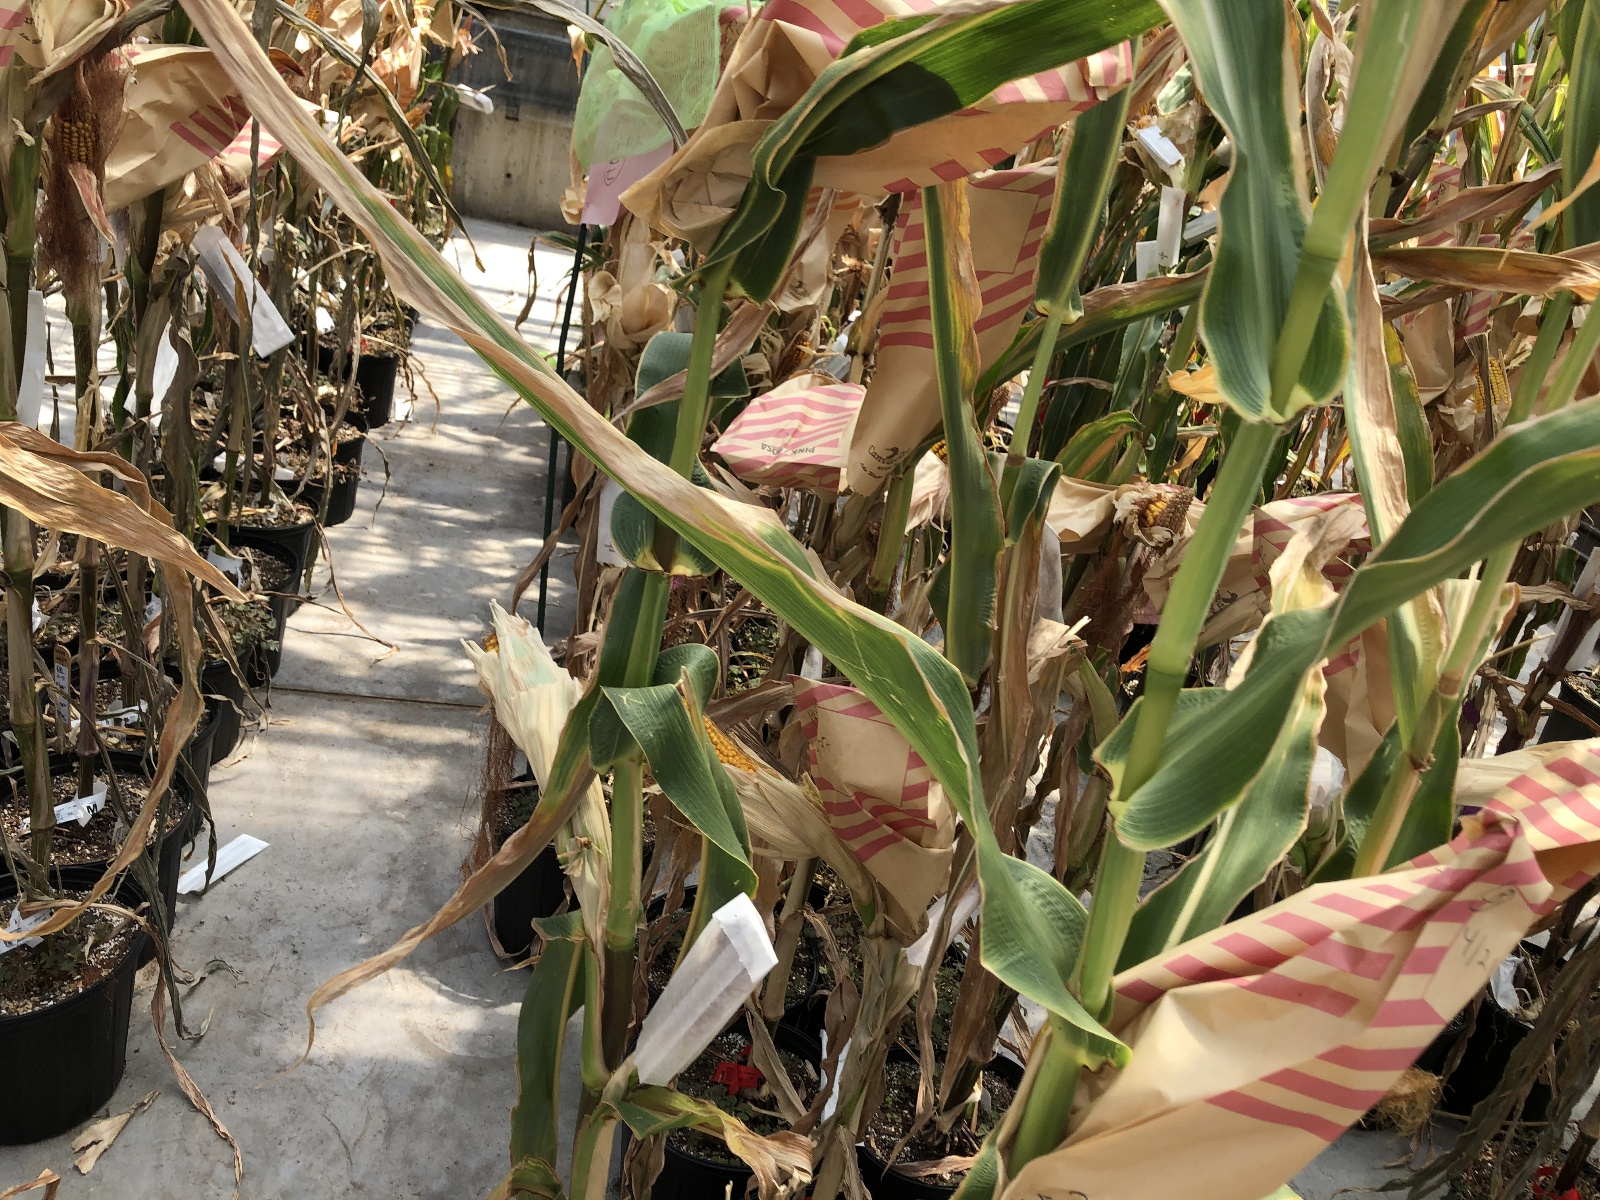ear: (477, 621, 606, 829), (687, 702, 792, 831), (50, 83, 98, 221), (1466, 350, 1517, 413), (1141, 484, 1194, 538), (780, 320, 814, 387)
